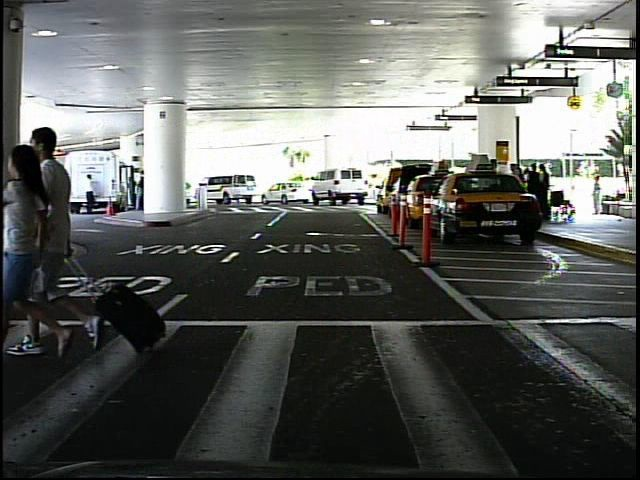person: (30, 113, 97, 360), (81, 170, 99, 220), (588, 172, 607, 218), (369, 168, 380, 203)
